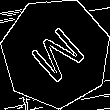M_SE: (22, 19, 89, 87)
